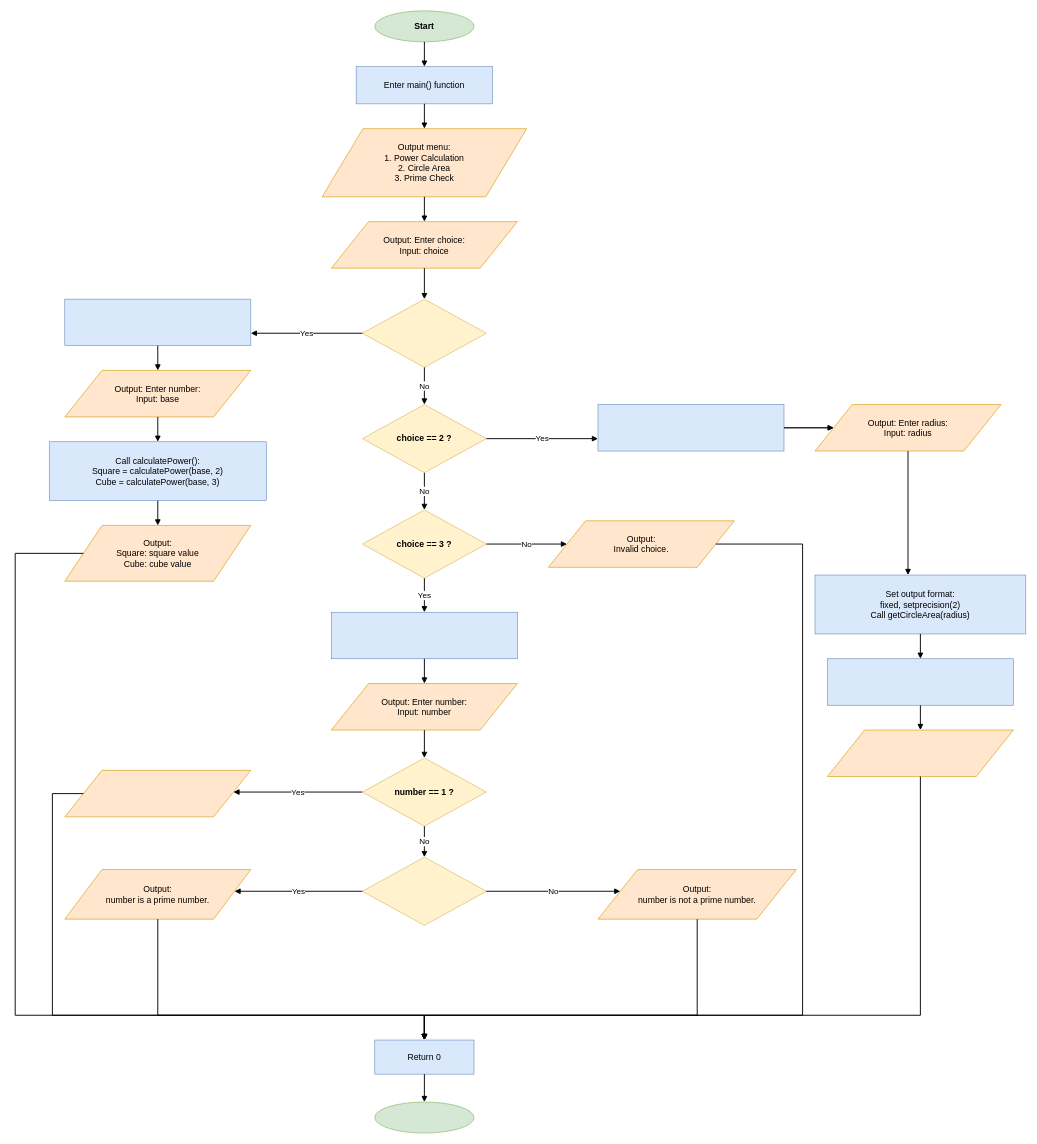
The diagram is 1037 pixels wide and 1144 high, and some of its shapes have lost their labels. The centre of each missing label's shape, as x and y in pixels:
"Calculate area: PI * radius * radius" belongs at point 920,681.
"Case 1: Power Calculation Declare variable: int base" belongs at point 157,322.
"Case 2: Circle Area Declare variable: double radius" belongs at point 690,427.
"Case 3: Prime Check Declare variable: int number" belongs at point 424,635.
"choice == 1 ?" belongs at point 424,333.
"End" belongs at point 424,1117.
"isPrime(number) ?" belongs at point 424,891.
"Output: Circle area: area value" belongs at point 920,753.
"Output: Invalid input." belongs at point 157,793.
